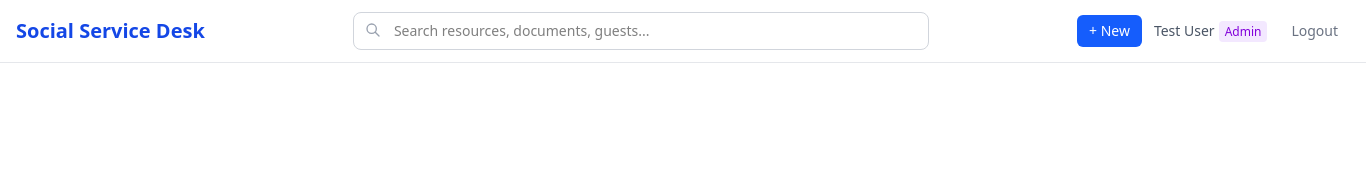
Test: Header › shows dropdown menu when clicking "+ New"
Click the button "+ New" at (1109, 31), box [1077,15,1142,47]
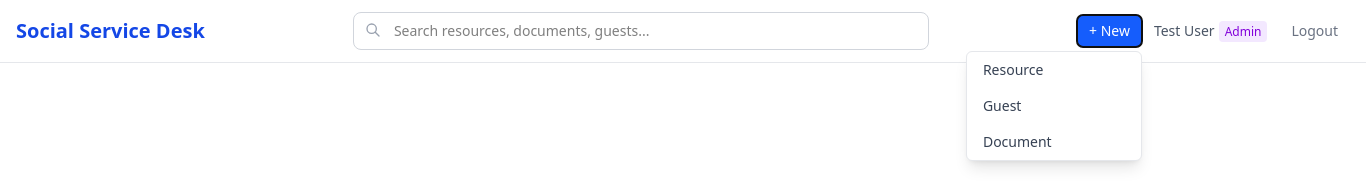
Result: the button "Resource" is shown at [967,52,1141,88]
Result: the button "Guest" is shown at [967,88,1141,124]
Result: the button "Document" is shown at [967,124,1141,160]
